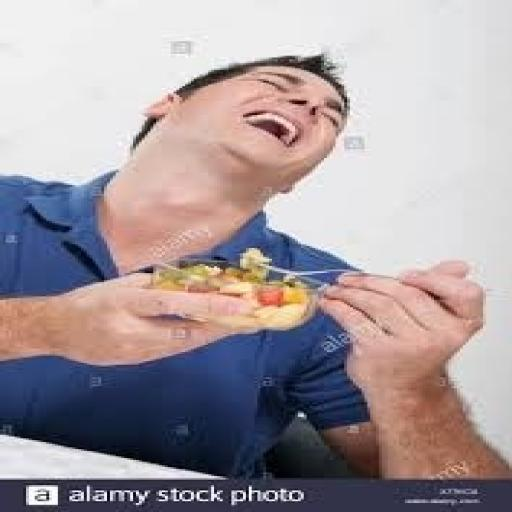laughing: (3, 43, 503, 474)
